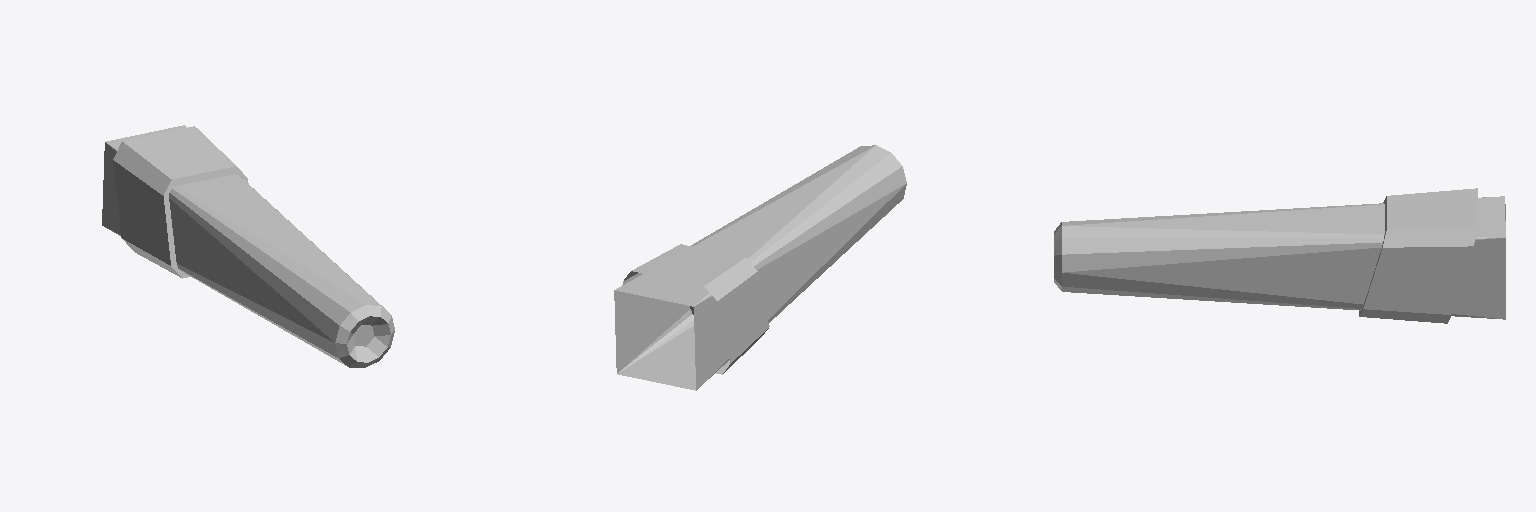
The model's file is barrel1.obj.
The picture shows the model from 3 angles: view 1: azimuth 30°, elevation 25°; view 2: azimuth 150°, elevation 25°; view 3: azimuth 270°, elevation 25°; orthographic projection.
Parts seen in each view (by area): view 1: Tai_SupportFrigateGun; view 2: Tai_SupportFrigateGun; view 3: Tai_SupportFrigateGun.
Boxes of the visible parts, x1,y1,x2,y2 form: Tai_SupportFrigateGun: [102, 125, 394, 367]; Tai_SupportFrigateGun: [614, 145, 906, 390]; Tai_SupportFrigateGun: [1054, 188, 1505, 323].
Bounding box in the file's own units: 3.21 × 3.22 × 12.97.